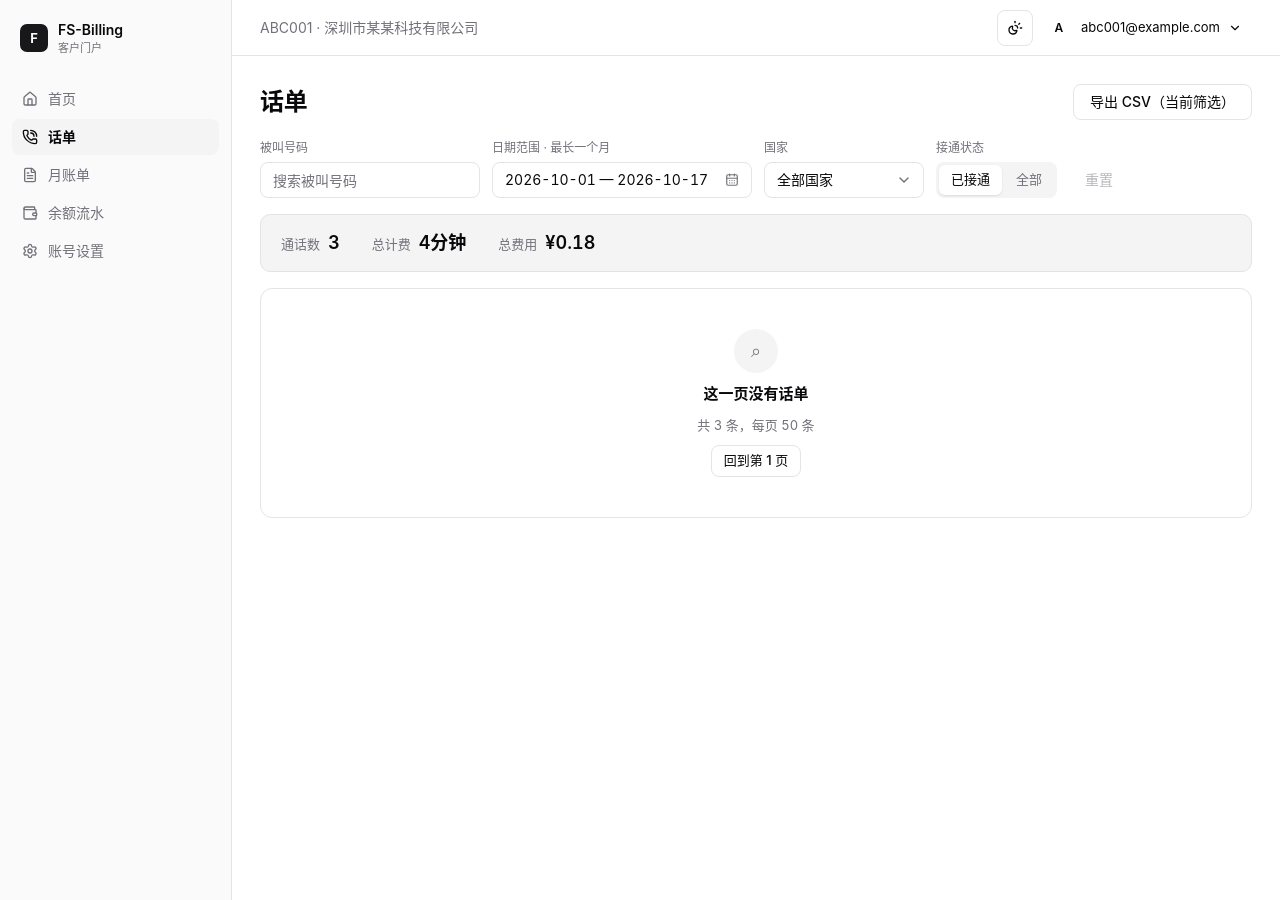
Test: portal CDR list › offers the first page when the address points past the last page
Check: the text "这一页没有话单" is shown, box [704, 383, 808, 406]
Check: the text "共 3 条，每页 50 条" is shown, box [697, 416, 815, 435]
Click the button "回到第 1 页" at (756, 461), box [711, 445, 801, 477]
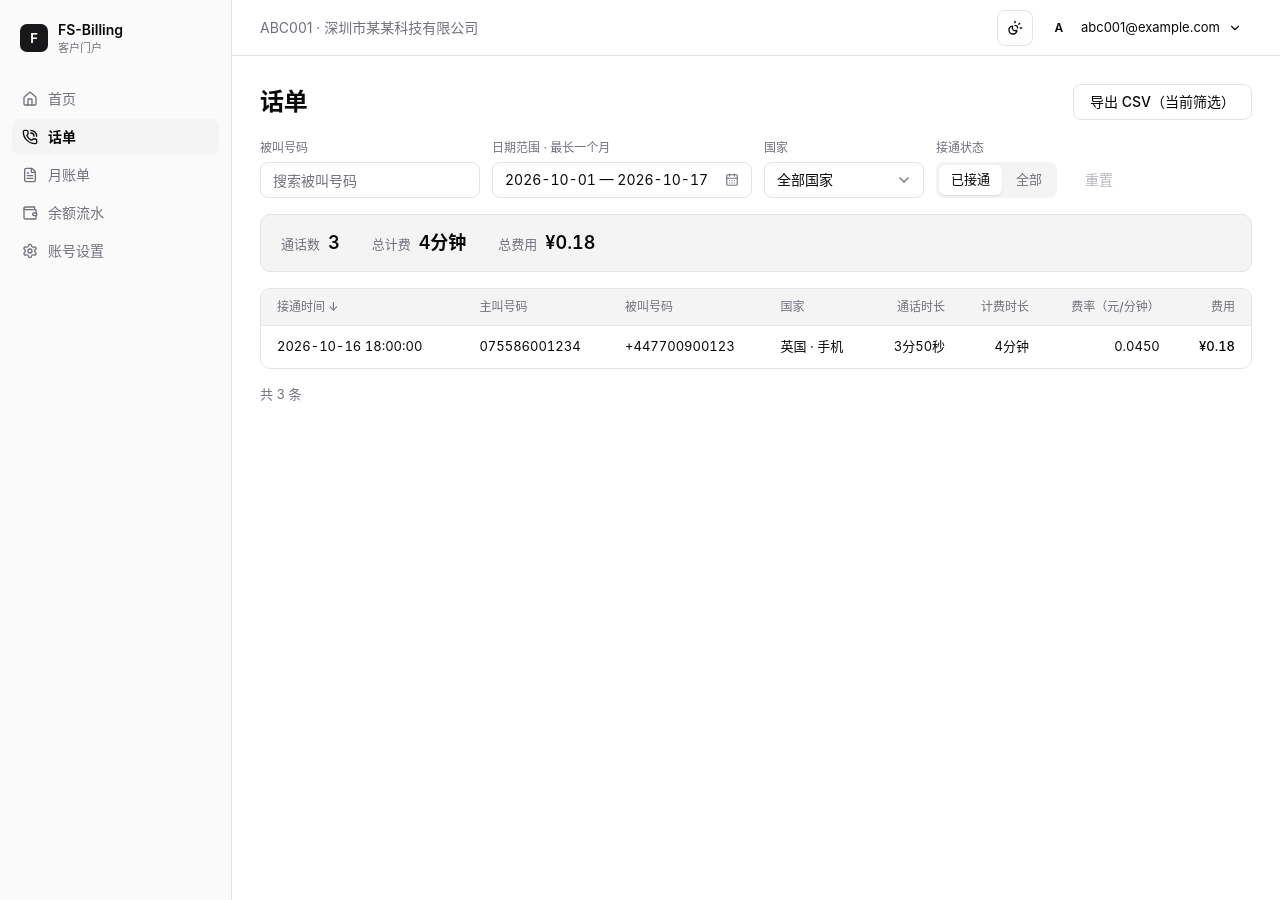
Check: the table is shown, box [261, 289, 1251, 368]
